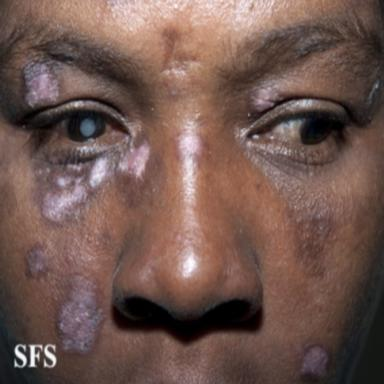Lupus-Erythematosus-Chronicus-Discoides: (32, 130, 154, 228), (22, 43, 78, 110), (58, 276, 103, 353), (175, 127, 211, 163), (249, 80, 280, 111), (301, 346, 329, 379), (25, 243, 50, 279)
